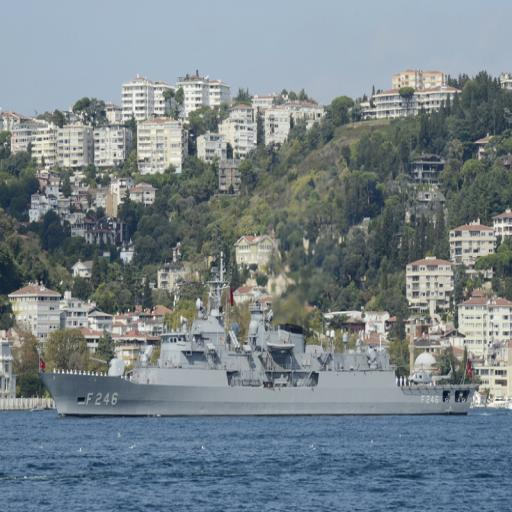Fragata: (38, 241, 480, 424)
